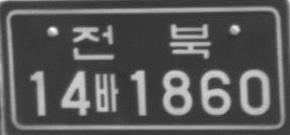0: (239, 68, 271, 116)
1: (23, 70, 54, 116), (126, 70, 152, 116)
4: (60, 69, 90, 116)
6: (200, 68, 231, 116)
8: (161, 69, 193, 116)
바: (94, 73, 119, 112)
전북_D: (72, 23, 212, 60)
